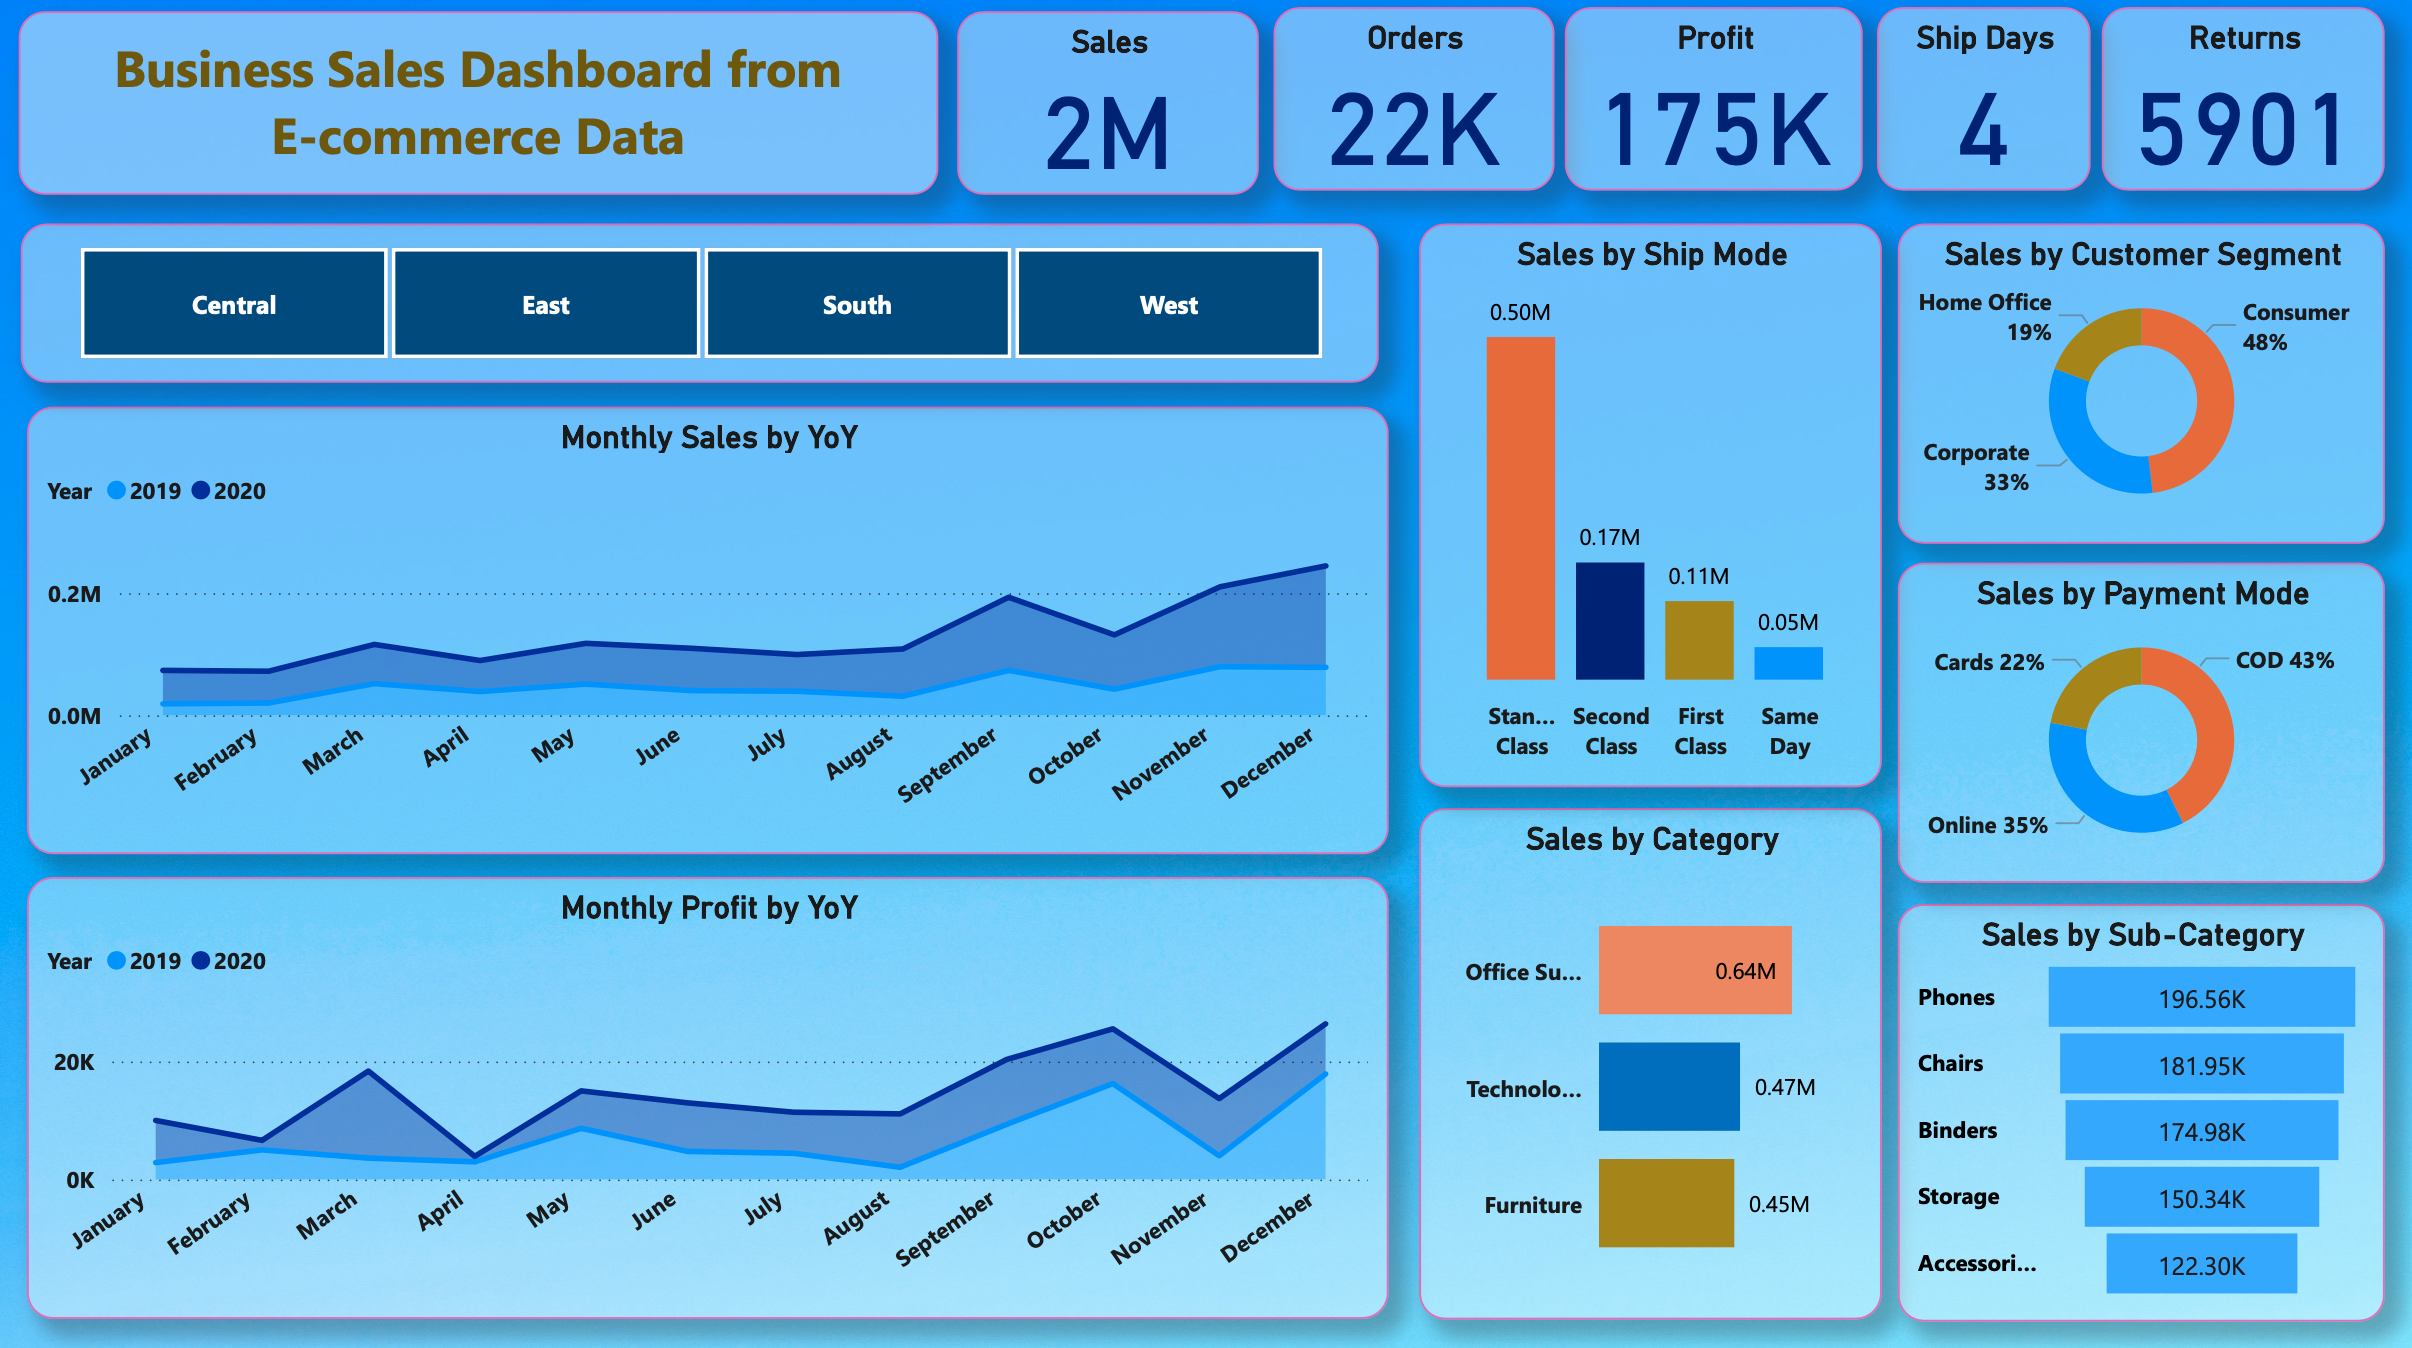

The page's visual inventory and layout, read from the dashboard file:
{"tool":"powerbi","page":{"name":"Page 1","canvas":[1280,720],"ordinal":0},"visuals":[{"type":"clusteredBarChart","title":"Sales by Category","fields":{"Category":["SuperStore_Sales_Dataset.Category"],"Y":["Sum(SuperStore_Sales_Dataset.Sales)"]},"box":[758,432.7,247.2,273.3],"z":0},{"type":"funnel","title":"Sales by Sub-Category","fields":{"Category":["SuperStore_Sales_Dataset.Sub-Category"],"Y":["Sum(SuperStore_Sales_Dataset.Sales)"]},"box":[1013.3,483.1,260.2,222.8],"z":1000},{"type":"lineClusteredColumnComboChart","title":"Sales by Ship Mode","fields":{"Category":["SuperStore_Sales_Dataset.Ship Mode"],"Y":["Sum(SuperStore_Sales_Dataset.Sales)"]},"box":[758,120.4,247.2,300.9],"z":2000},{"type":"stackedAreaChart","title":"Monthly Sales by YoY","fields":{"Y":["Sum(SuperStore_Sales_Dataset.Sales)"],"Category":["SuperStore_Sales_Dataset.Order Date.Variation.Date Hierarchy.Month","SuperStore_Sales_Dataset.Order Date.Variation.Date Hierarchy.Day"],"Series":["SuperStore_Sales_Dataset.Order Date.Variation.Date Hierarchy.Year"]},"box":[14.6,218,727.1,239.1],"z":3000},{"type":"stackedAreaChart","title":"Monthly Profit by YoY","fields":{"Y":["Sum(SuperStore_Sales_Dataset.Profit)"],"Category":["SuperStore_Sales_Dataset.Order Date.Variation.Date Hierarchy.Month","SuperStore_Sales_Dataset.Order Date.Variation.Date Hierarchy.Day"],"Series":["SuperStore_Sales_Dataset.Order Date.Variation.Date Hierarchy.Year"]},"box":[14.6,468.4,727.1,235.8],"z":4000},{"type":"donutChart","title":"Sales by Customer Segment","fields":{"Category":["SuperStore_Sales_Dataset.Segment"],"Y":["Sum(SuperStore_Sales_Dataset.Sales)"]},"box":[1013.3,120.4,260.2,170.8],"z":6000},{"type":"donutChart","title":"Sales by Payment Mode","fields":{"Category":["SuperStore_Sales_Dataset.Payment Mode"],"Y":["Sum(SuperStore_Sales_Dataset.Sales)"]},"box":[1013.3,300.9,260.2,170.8],"z":7000},{"type":"slicer","fields":{"Values":["SuperStore_Sales_Dataset.Region"]},"box":[11.4,120.4,725.4,84.6],"z":8000},{"type":"textbox","box":[9.8,6.5,491.2,97.6],"z":9000},{"type":"card","title":"Sales","fields":{"Values":["Sum(SuperStore_Sales_Dataset.Sales)"]},"box":[510.7,6.5,161,97.6],"z":10000},{"type":"card","title":"Orders","fields":{"Values":["Sum(SuperStore_Sales_Dataset.Quantity)"]},"box":[679.9,4.9,149.6,97.6],"z":11000},{"type":"card","title":"Profit","fields":{"Values":["Sum(SuperStore_Sales_Dataset.Profit)"]},"box":[836,4.9,159.4,97.6],"z":12000},{"type":"card","title":"Ship Days","fields":{"Values":["Avg(SuperStore_Sales_Dataset.AverageDelivery)"]},"box":[1002,4.9,113.9,97.6],"z":13000},{"type":"card","title":"Returns","fields":{"Values":["CountNonNull(SuperStore_Sales_Dataset.Returns)"]},"box":[1122.3,4.9,151.3,97.6],"z":14000}]}

Visuals, with their boxes in screenshot pixels (x1, y1, x2, y2), scaled from the page's 1280x720 canvas onto the 2412x1348 screenshot:
"Sales by Category" clusteredBarChart: {"left": 1428, "top": 810, "right": 1894, "bottom": 1322}
"Sales by Sub-Category" funnel: {"left": 1909, "top": 904, "right": 2400, "bottom": 1322}
"Sales by Ship Mode" lineClusteredColumnComboChart: {"left": 1428, "top": 225, "right": 1894, "bottom": 789}
"Monthly Sales by YoY" stackedAreaChart: {"left": 28, "top": 408, "right": 1398, "bottom": 856}
"Monthly Profit by YoY" stackedAreaChart: {"left": 28, "top": 877, "right": 1398, "bottom": 1318}
"Sales by Customer Segment" donutChart: {"left": 1909, "top": 225, "right": 2400, "bottom": 545}
"Sales by Payment Mode" donutChart: {"left": 1909, "top": 563, "right": 2400, "bottom": 883}
slicer - SuperStore_Sales_Dataset.Region: {"left": 21, "top": 225, "right": 1388, "bottom": 384}
textbox: {"left": 18, "top": 12, "right": 944, "bottom": 195}
"Sales" card: {"left": 962, "top": 12, "right": 1266, "bottom": 195}
"Orders" card: {"left": 1281, "top": 9, "right": 1563, "bottom": 192}
"Profit" card: {"left": 1575, "top": 9, "right": 1876, "bottom": 192}
"Ship Days" card: {"left": 1888, "top": 9, "right": 2103, "bottom": 192}
"Returns" card: {"left": 2115, "top": 9, "right": 2400, "bottom": 192}
